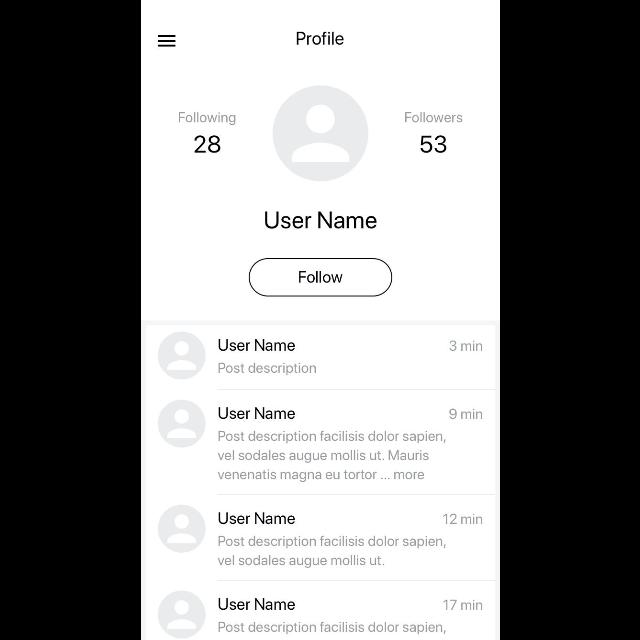icon: (272, 86, 368, 182), (157, 330, 205, 380), (157, 400, 205, 448), (157, 505, 205, 553), (157, 591, 205, 639), (156, 34, 176, 48)
text: (218, 431, 447, 483), (217, 535, 446, 569), (218, 622, 446, 634), (264, 211, 376, 229), (218, 362, 316, 376), (218, 512, 296, 524), (218, 339, 294, 351), (218, 407, 294, 419), (218, 598, 294, 610), (295, 29, 343, 46), (178, 112, 236, 126), (404, 112, 462, 124), (419, 136, 446, 154), (442, 512, 482, 524), (194, 135, 220, 153), (443, 598, 482, 610), (448, 340, 484, 352), (448, 408, 482, 419)
textbutton: (248, 258, 392, 298)
